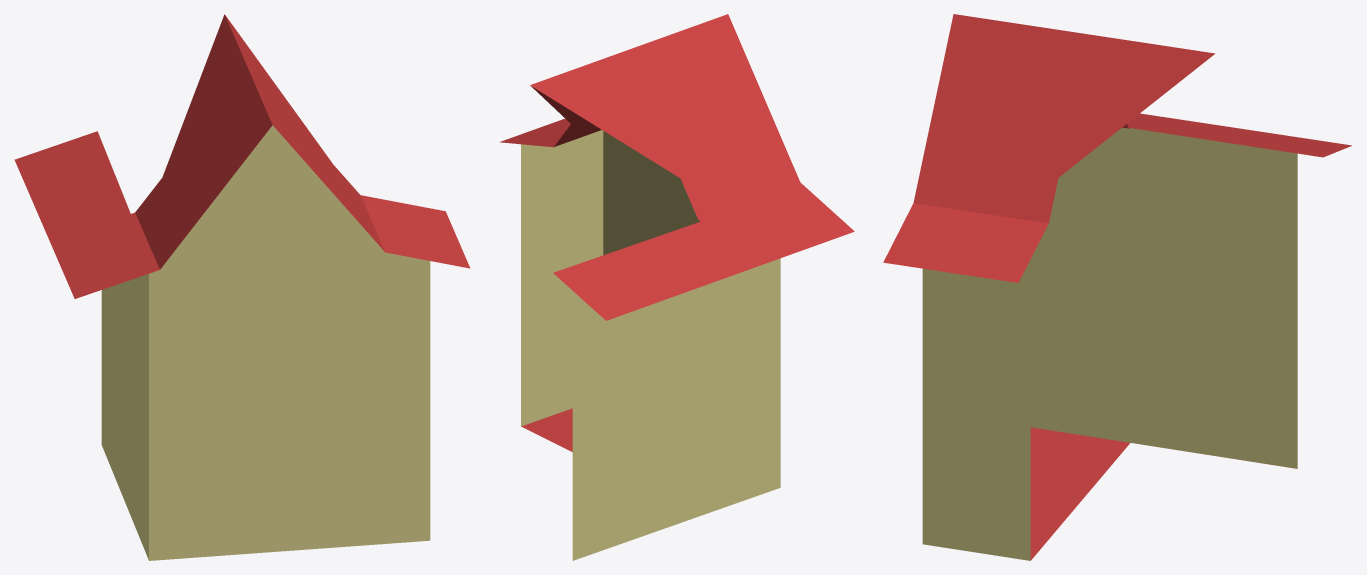
3 views of the same model, side by side, from view 1: azimuth 30°, elevation 25°; view 2: azimuth 150°, elevation 25°; view 3: azimuth 270°, elevation 25° (orthographic). The views are drawn at different scales.
Size of the model in its own units: 9.4 by 9.97 by 10.72.
